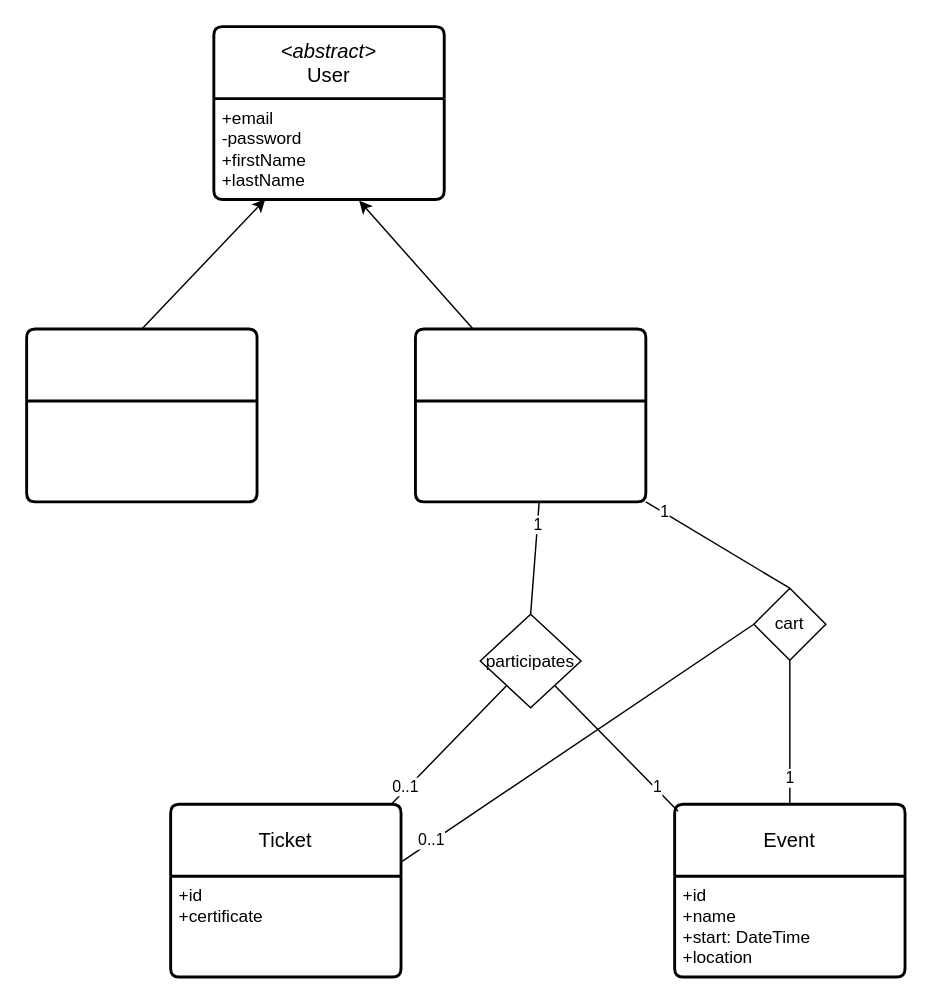
The diagram is 930 pixels wide and 1002 high, and some of its shapes have lost their labels. Each missing label, with the centre of its shape:
"Organizer" goes at (x=141, y=415).
"Participant" goes at (x=530, y=415).
